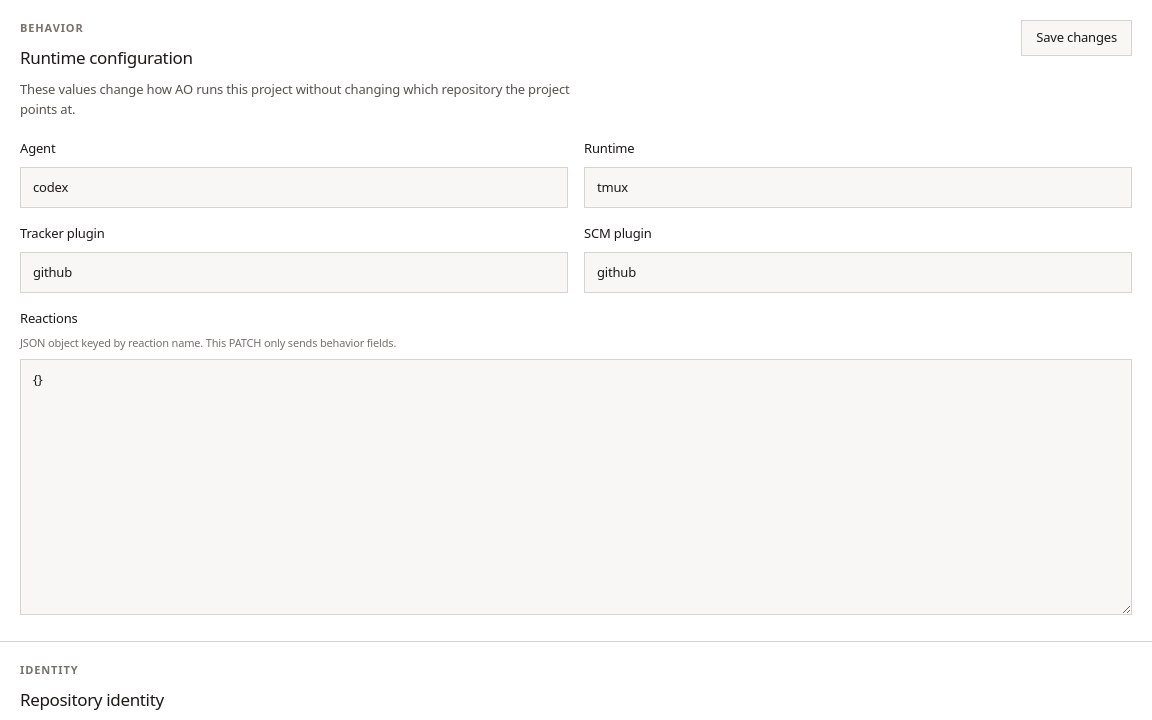
Test: ProjectSettingsForm › shows an inline error for a 400 without losing form state
The image size is (1152, 720).
Replace the text in the field labelled "Agent" with "cursor" at (294, 187), box [20,166,568,208]
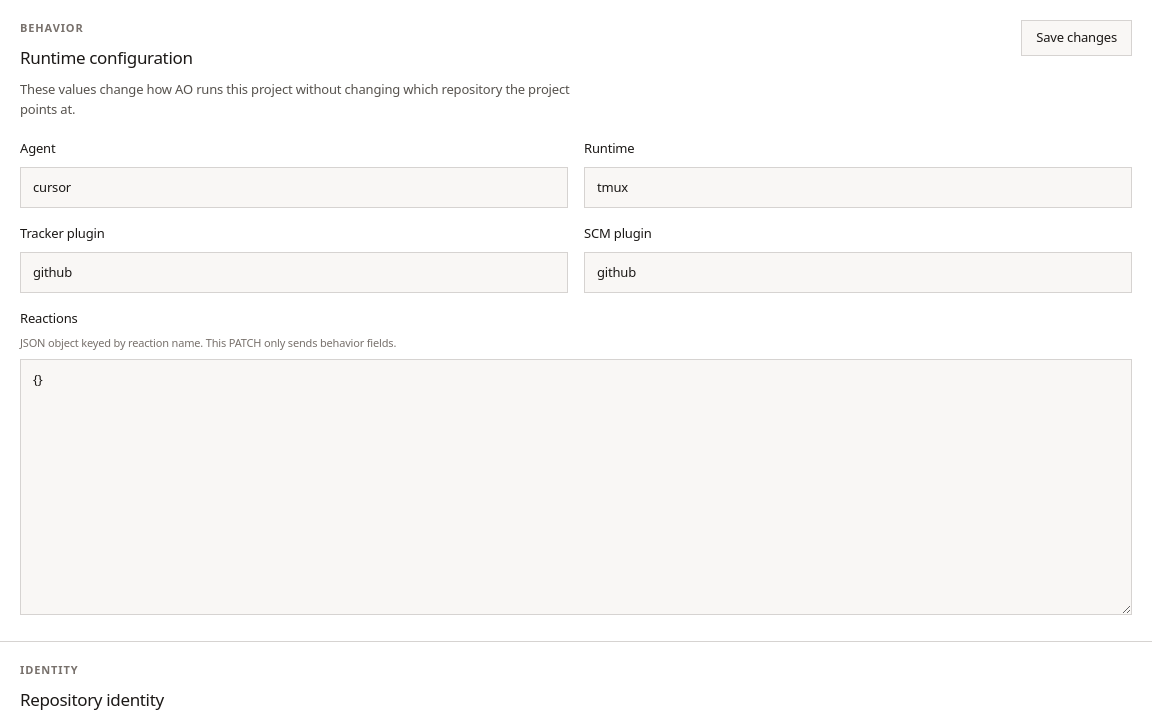
Click the button "Save changes" at (1077, 38), box [1021,20,1132,56]
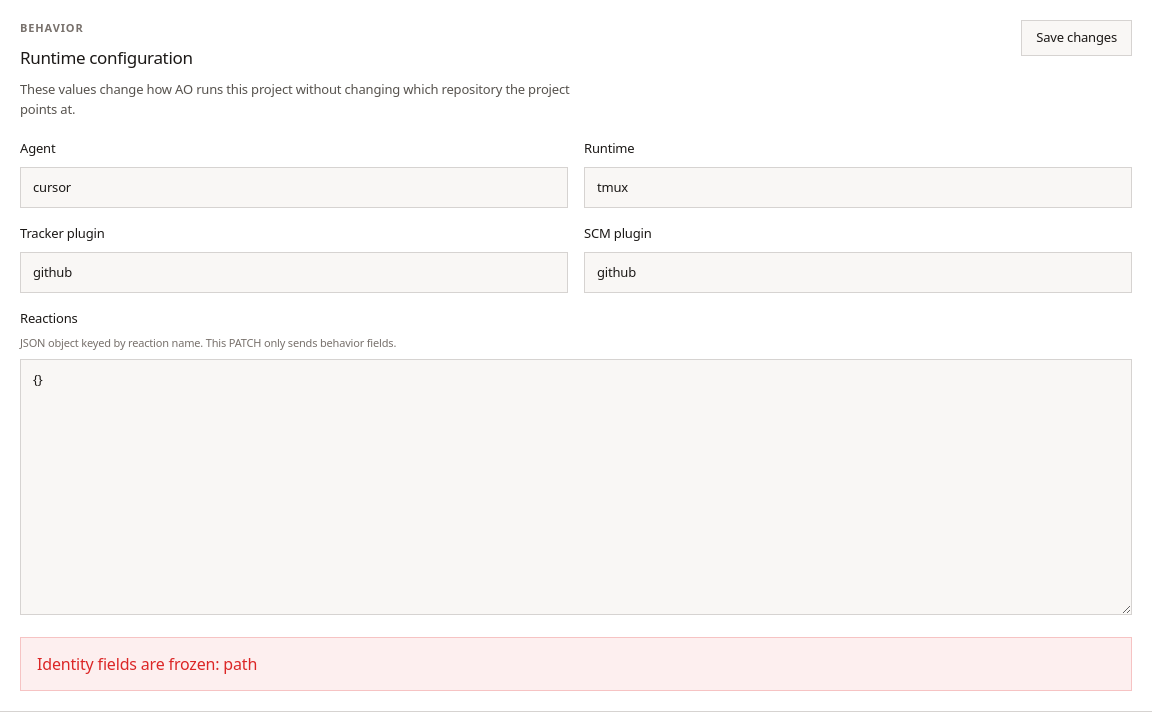
Check: the message reads "Identity fields are frozen: path", box [37,653,257,675]
